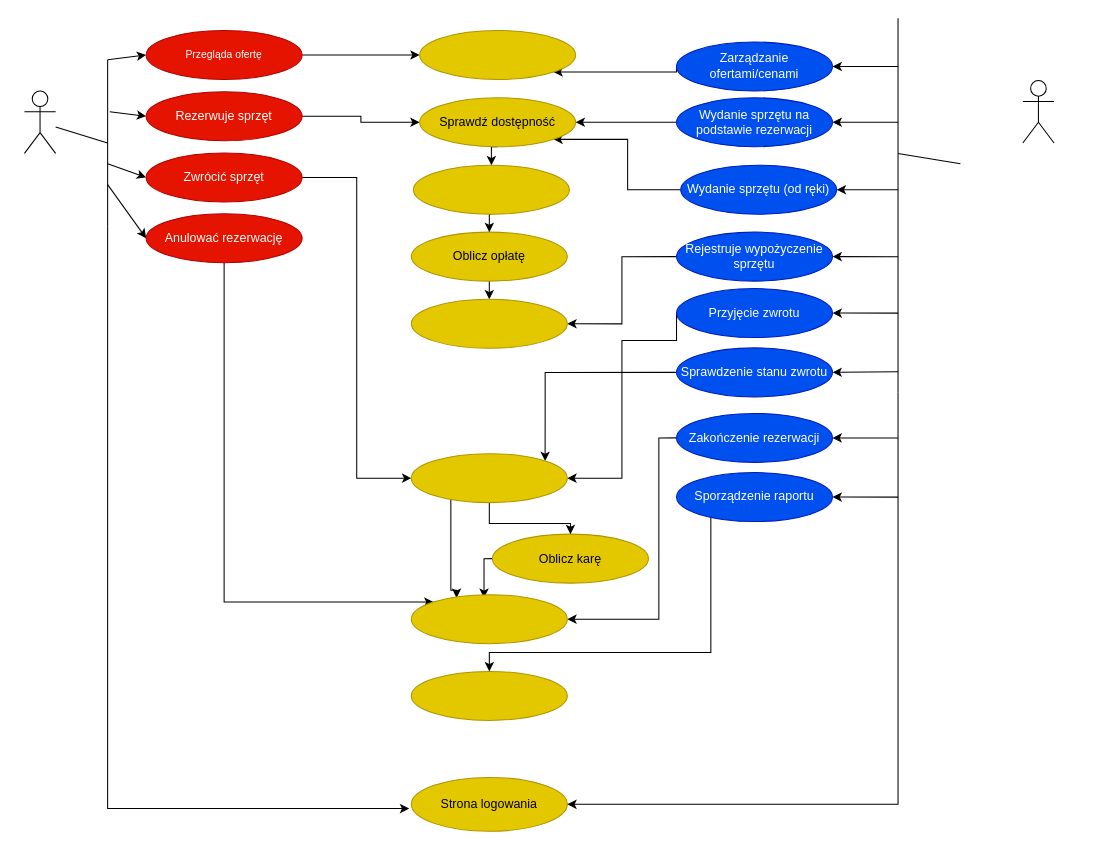
This 1101x850 diagram has some shape labels left out. The shapes that lost their labels are listed below. From the top down, each one's centre as x and y in pixels, then its label:
At point (497, 54): "Wyświetl ofertę".
At point (39, 121): "KLIENT".
At point (1038, 111): "SPRZEDAWCA".
At point (490, 189): "Oblicz termin zwrotu".
At point (488, 323): "Zapisz rezerwację w bazie".
At point (488, 478): "Sprawdź czy oddano po terminie".
At point (488, 619): "Usuń rezerwację z bazy".
At point (488, 695): "Utwórz raport".
